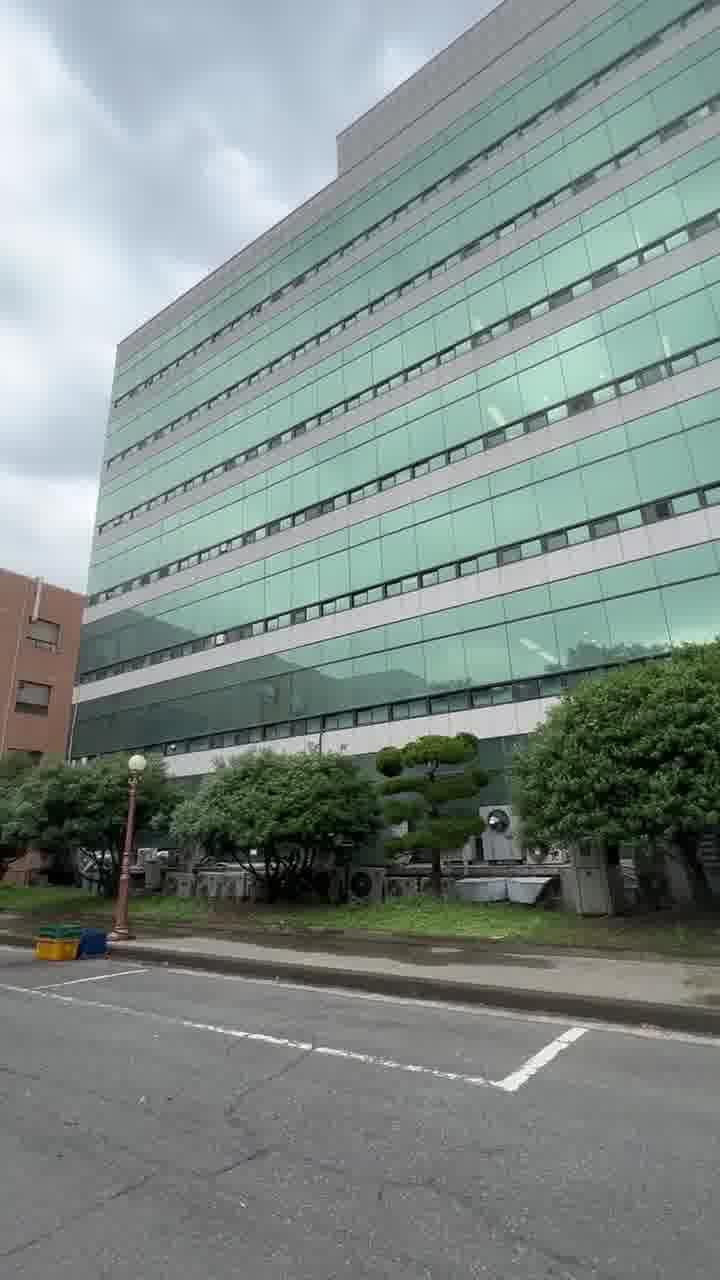building: (68, 72, 720, 670)
